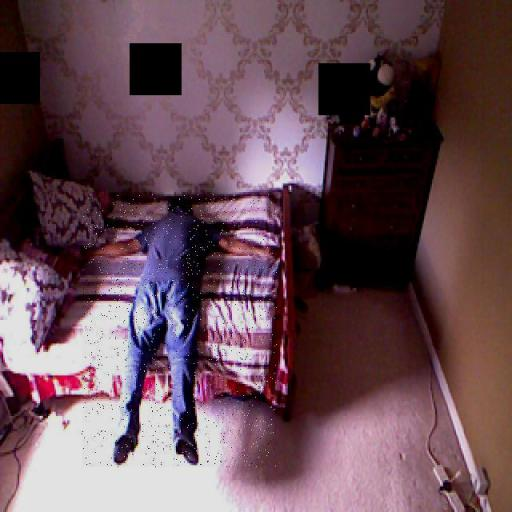Fall: (82, 195, 277, 468)
